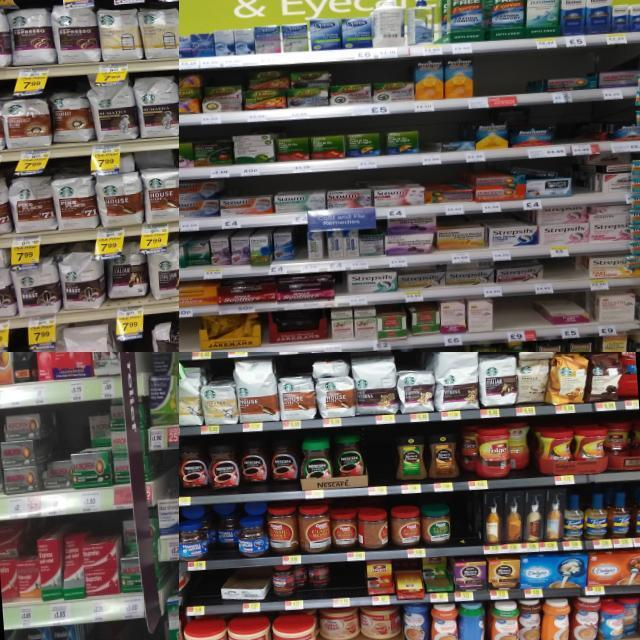Imprecise: (1, 408, 52, 497), (236, 444, 298, 492), (81, 413, 118, 482), (274, 562, 339, 596), (116, 516, 144, 590), (384, 218, 439, 255), (205, 499, 239, 558), (242, 69, 288, 111), (538, 300, 596, 328), (422, 555, 456, 596), (620, 592, 640, 640), (390, 572, 420, 596)
